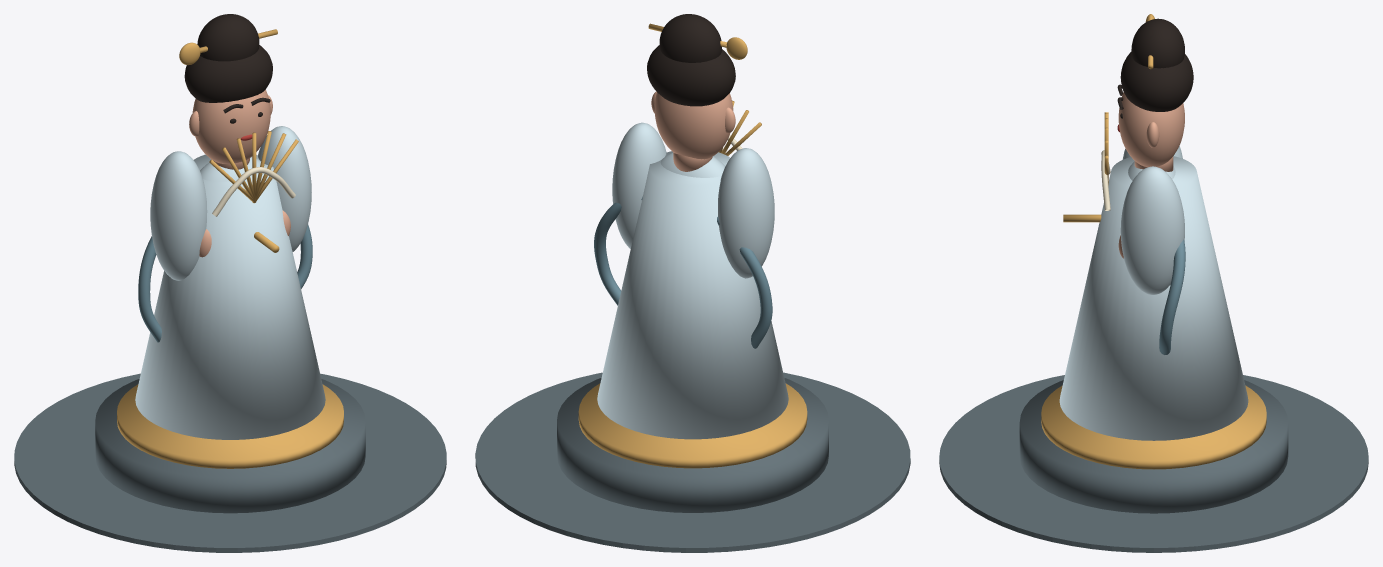
Rendered from li-qingzhao.glb.
The picture shows the model from 3 angles, left to right: view 1: azimuth 30°, elevation 25°; view 2: azimuth 150°, elevation 25°; view 3: azimuth 270°, elevation 25°; orthographic projection.
Parts seen in each view (by area): view 1: 宽袖长裙, 展示台, 圆形青石台, 台座上层, 左袖, 面部, 主发髻, 右袖, 高发髻, 飘带左, 扇面, 飘带右 (+1 smaller); view 2: 宽袖长裙, 展示台, 圆形青石台, 台座上层, 左袖, 主发髻, 右袖, 面部, 高发髻, 飘带左, 飘带右, 胸肩; view 3: 宽袖长裙, 展示台, 圆形青石台, 台座上层, 右袖, 面部, 主发髻, 高发髻, 飘带右.
Part boxes in pixels (<box>): 宽袖长裙: <box>135,154,325,439</box>; 展示台: <box>14,373,446,552</box>; 圆形青石台: <box>95,379,365,513</box>; 台座上层: <box>117,384,343,468</box>; 左袖: <box>150,151,207,280</box>; 面部: <box>192,89,270,163</box>; 主发髻: <box>184,45,272,102</box>; 右袖: <box>258,126,311,251</box>; 高发髻: <box>197,14,259,61</box>; 飘带左: <box>138,236,161,342</box>; 扇面: <box>212,167,295,216</box>; 飘带右: <box>297,224,312,288</box>; 宽袖长裙: <box>597,151,788,439</box>; 展示台: <box>475,372,910,552</box>; 圆形青石台: <box>557,378,828,512</box>; 台座上层: <box>578,383,807,468</box>; 左袖: <box>718,148,774,278</box>; 主发髻: <box>647,45,735,106</box>; 右袖: <box>612,122,666,248</box>; 面部: <box>654,92,733,159</box>; 高发髻: <box>659,14,721,62</box>; 飘带左: <box>717,217,772,348</box>; 飘带右: <box>594,196,642,305</box>; 胸肩: <box>660,153,725,177</box>; 宽袖长裙: <box>1059,156,1248,440</box>; 展示台: <box>939,375,1368,552</box>; 圆形青石台: <box>1019,380,1288,513</box>; 台座上层: <box>1041,385,1266,469</box>; 右袖: <box>1120,166,1184,294</box>; 面部: <box>1118,92,1184,167</box>; 主发髻: <box>1120,51,1193,111</box>; 高发髻: <box>1131,18,1184,68</box>; 飘带右: <box>1159,239,1185,354</box>.
Bounding box in the file's own units: 4 × 4.52 × 4.
